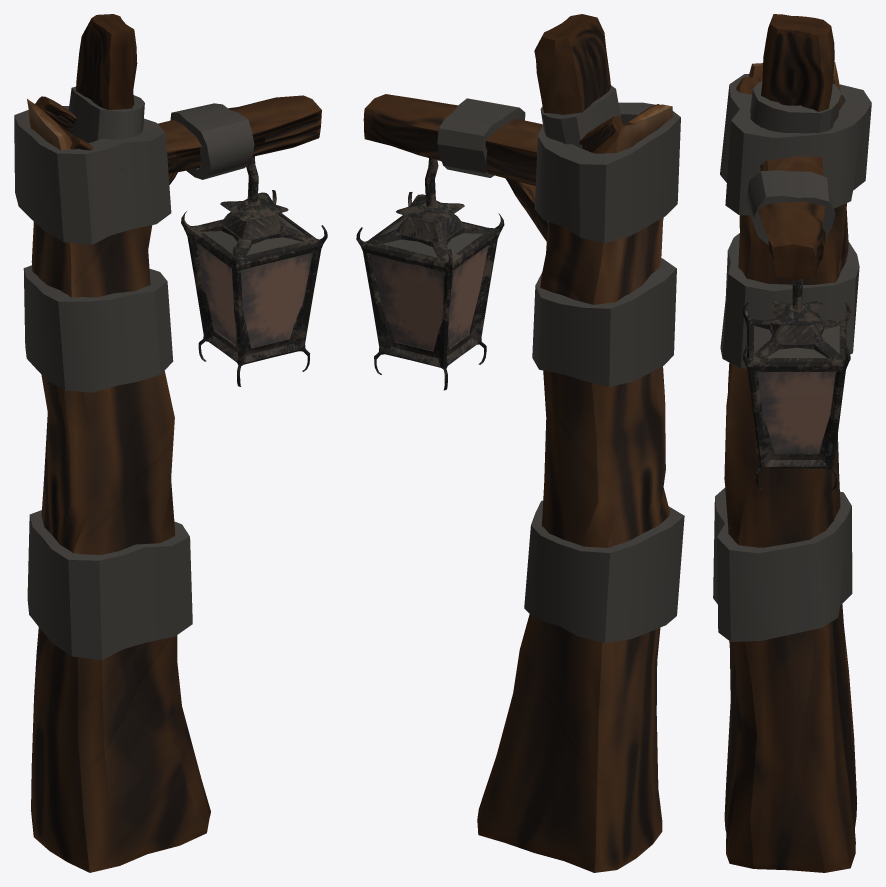
File: Iron_Lamp.fbx
The picture shows the model from 3 angles, left to right: view 1: azimuth 30°, elevation 25°; view 2: azimuth 150°, elevation 25°; view 3: azimuth 270°, elevation 25°; orthographic projection.
Visible parts, largest first — view 1: Wooden_post; view 2: Wooden_post; view 3: Wooden_post.
Part boxes in pixels (x1,y1,x2,y2): Wooden_post: [14, 14, 327, 872]; Wooden_post: [356, 14, 684, 872]; Wooden_post: [713, 14, 871, 872].
Bounding box in the file's own units: 95.32 × 263 × 45.84.
